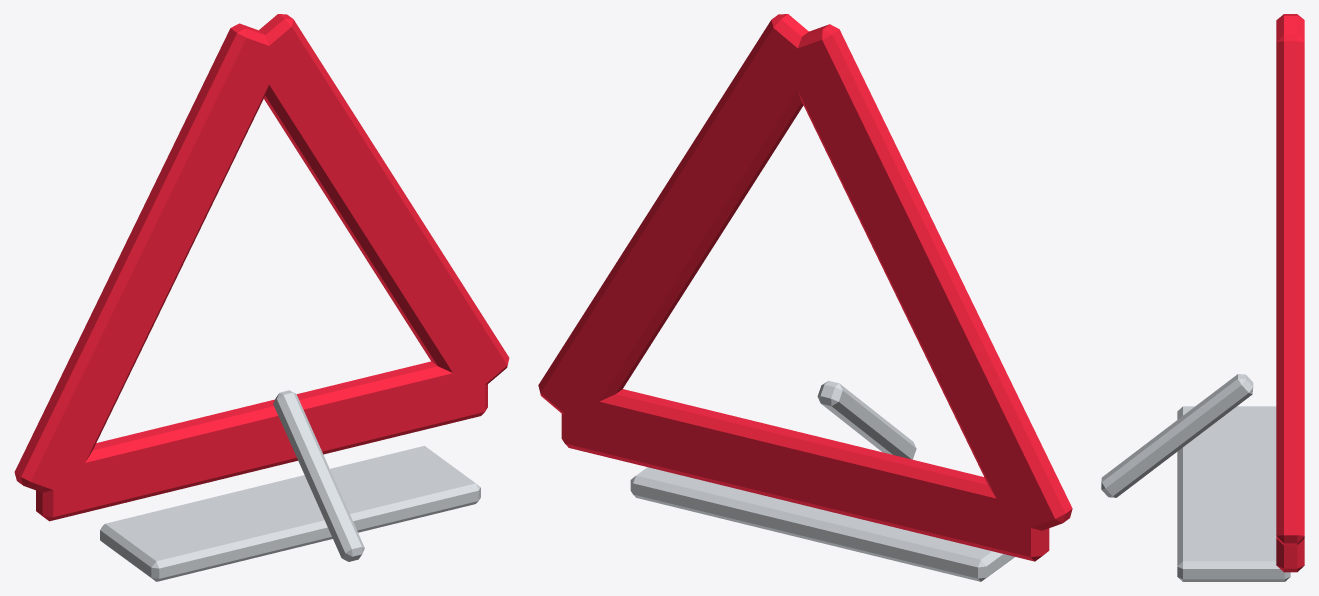
The model's file is relic_warning_triangle.fbx.
3 renders of one model, left to right at view 1: azimuth 30°, elevation 25°; view 2: azimuth 150°, elevation 25°; view 3: azimuth 270°, elevation 25°, orthographic. The views are drawn at different scales.
Parts seen in each view (by area): view 1: Prop; view 2: Prop; view 3: Prop.
Part boxes in pixels (left/top/right/bottom): Prop: left=14, top=14, right=509, bottom=581; Prop: left=538, top=14, right=1072, bottom=581; Prop: left=1101, top=14, right=1304, bottom=581.
Bounding box in the file's own units: 0.2965 × 0.1077 × 0.2797.
